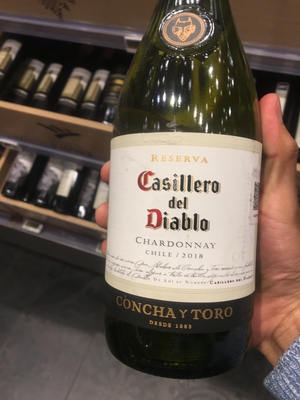casillero del diablo chardonnay: (102, 19, 265, 372)
